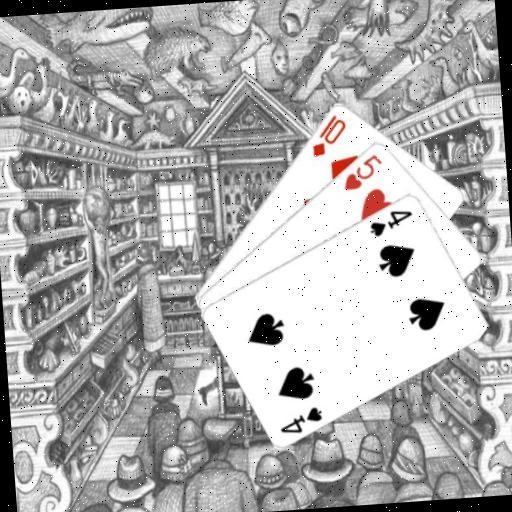10D: (307, 111, 350, 159)
4S: (276, 403, 325, 436), (367, 206, 416, 238)
5H: (339, 151, 386, 193)
